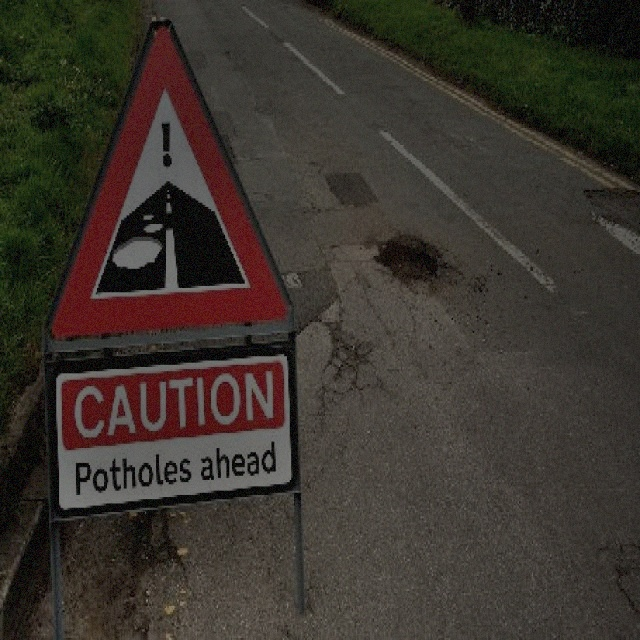pothole: (373, 230, 453, 292)
